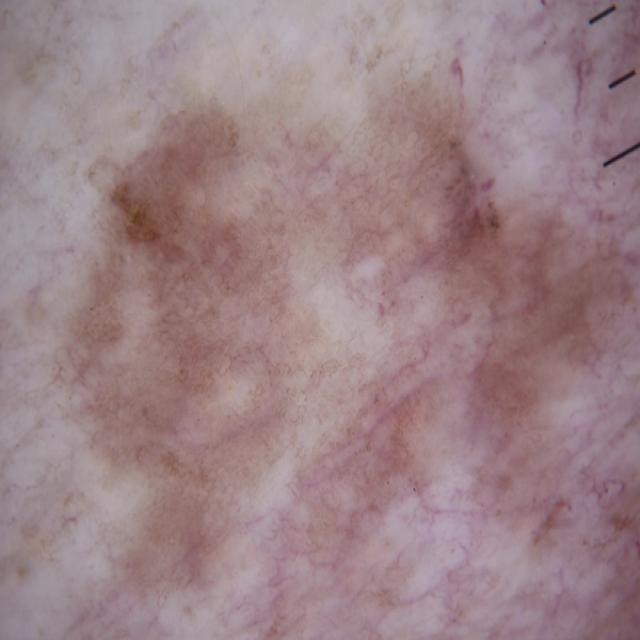Skin-Cancer Pigmented benign keratosis: (0, 1, 640, 640)
